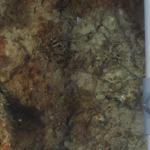dead: (9, 8, 144, 144)
